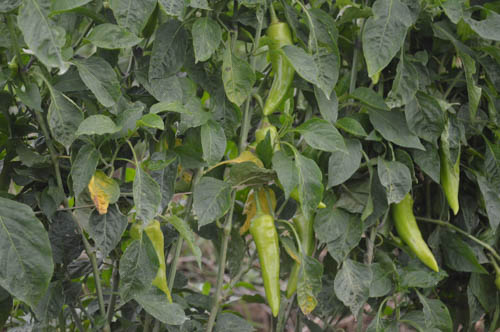ChiliPepper: (256, 124, 326, 209), (391, 195, 439, 271), (258, 23, 295, 121), (130, 223, 173, 298), (250, 212, 281, 315), (290, 212, 314, 309), (439, 141, 462, 214)
